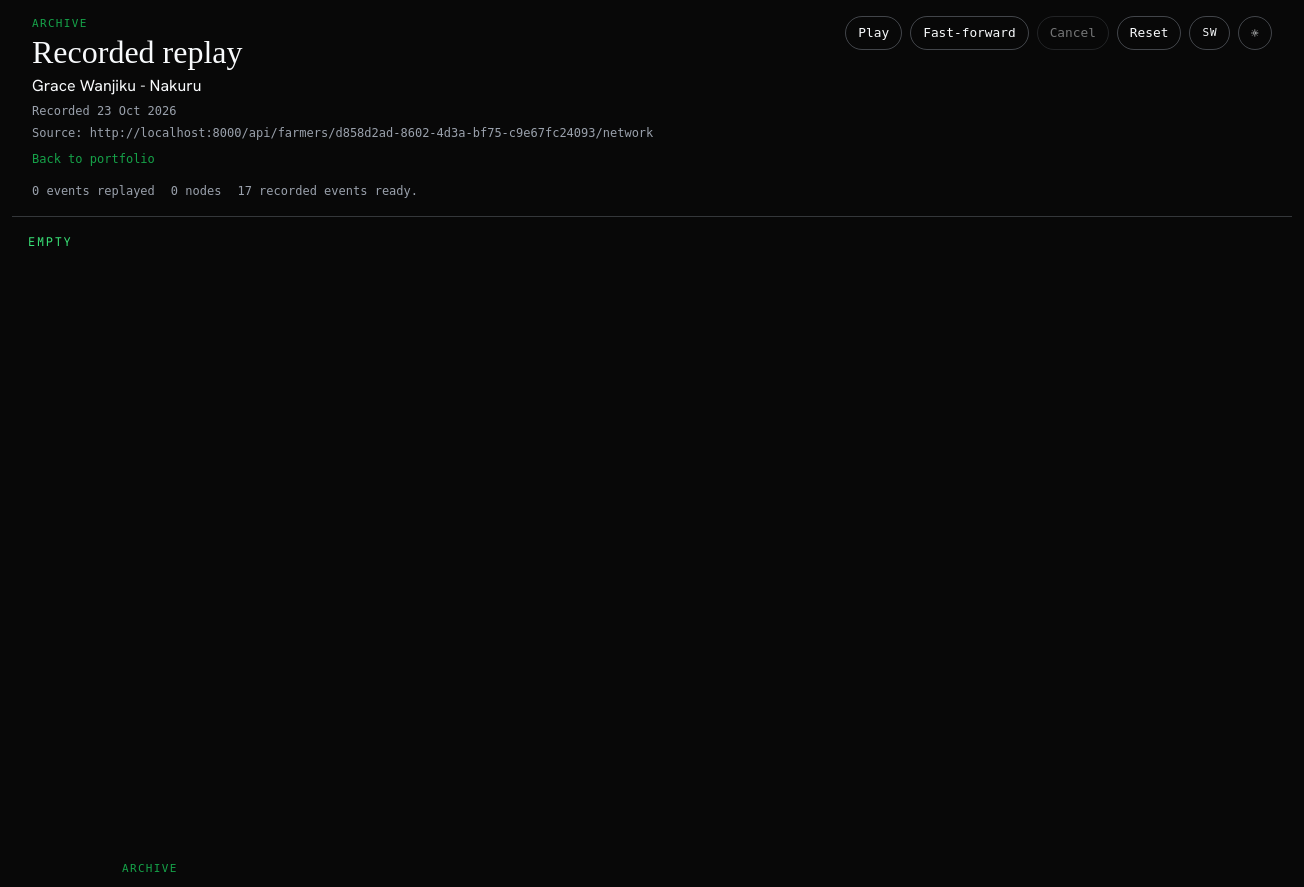
Scenario: ReplayPage › labels the recording and fast-forwards through its events
The image size is (1304, 887).
Expected: the heading "Recorded replay" is shown, [32,34,243,70]
Expected: the text "Grace Wanjiku - Nakuru" is shown, [32,75,201,96]
Click the button "Fast-forward".
click(969, 33)  # box [910,16,1029,50]
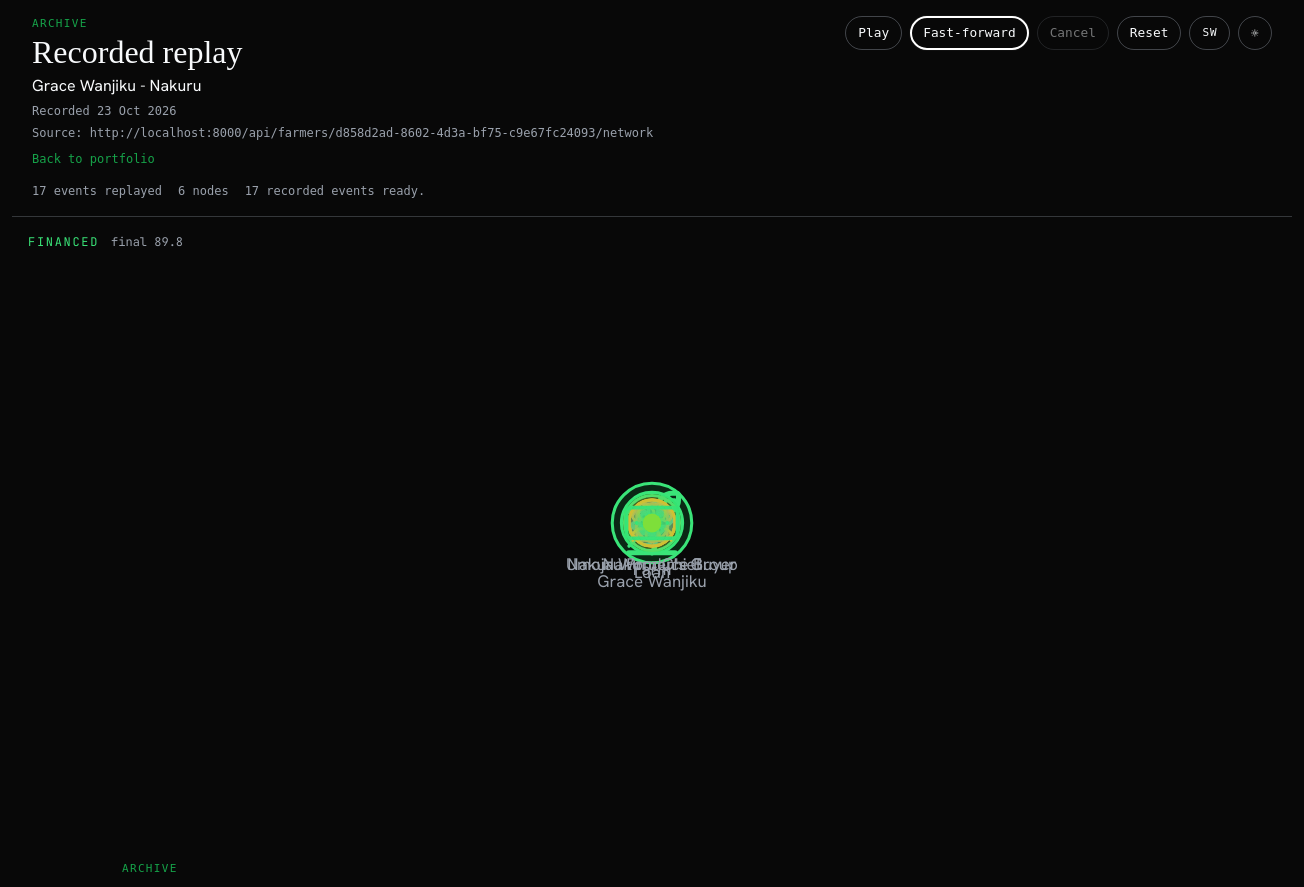
Click the button with aria-label "switch to kiswahili".
click(1210, 33)  # box [1189,16,1230,50]
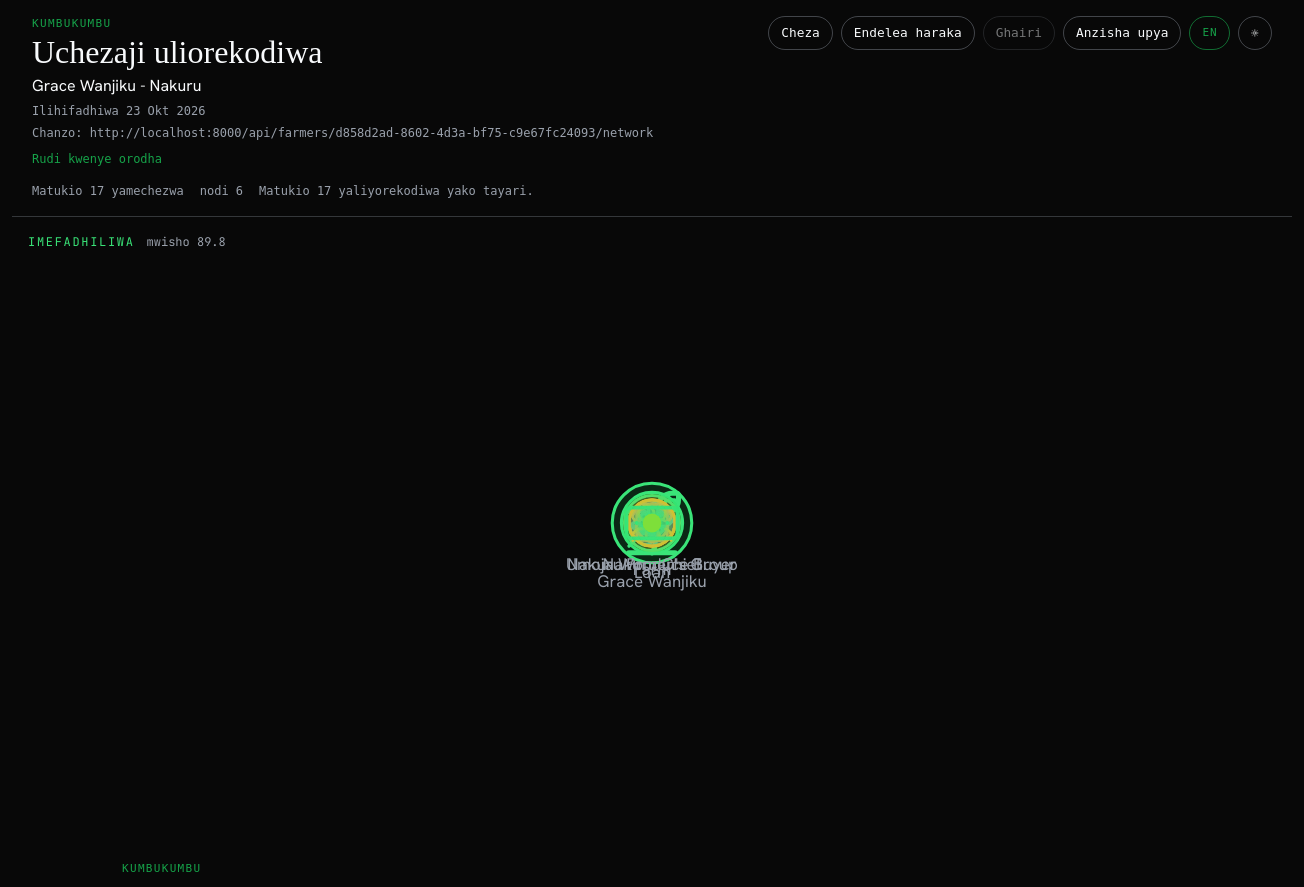
Expected: the heading "Uchezaji uliorekodiwa" is shown, [32,34,322,70]
